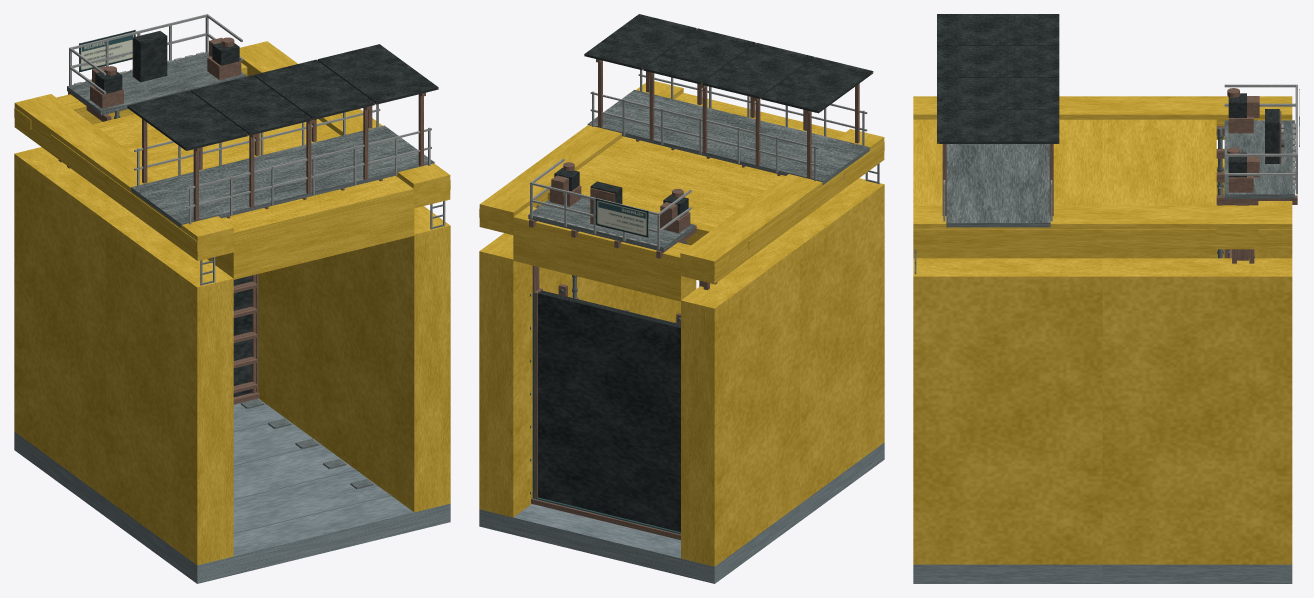
File: ProjectZ_Dam_Floodgate_Module.glb
The picture shows the model from 3 angles, left to right: view 1: azimuth 30°, elevation 25°; view 2: azimuth 150°, elevation 25°; view 3: azimuth 270°, elevation 25°; orthographic projection. The views are drawn at different scales.
Parts seen in each view (by area): view 1: Left_Pier_Cast_5m_Section_2, Right_Pier_Cast_5m_Section_2, Left_Pier_Cast_5m_Section_1, Invert_Foundation_8x5m_Section_2, Gallery_Nonslip_Deck_8m, Right_Pier_Cast_5m_Section_1, Left_Concrete_Pier_Parapet, Over_Spillway_Crosshead_Slotted_Section_3, Cast_Crest_Deck_Zone_4, Invert_Foundation_8x5m_Section_1, Removable_Gallery_Roof_Panel_1, Removable_Gallery_Roof_Panel_3 (+13 smaller); view 2: Left_Pier_Cast_5m_Section_1, Gate_Armored_Plate_Closed, Left_Pier_Cast_5m_Section_2, Right_Pier_Cast_5m_Section_1, Gallery_Nonslip_Deck_8m, Invert_Foundation_8x5m_Section_1, Left_Concrete_Pier_Parapet, Cast_Crest_Deck_Zone_2, Over_Spillway_Crosshead_Slotted_Section_1, Right_Concrete_Pier_Parapet, Cast_Crest_Deck_Zone_3, Removable_Gallery_Roof_Panel_1 (+15 smaller); view 3: Right_Pier_Cast_5m_Section_1, Right_Pier_Cast_5m_Section_2, Right_Concrete_Pier_Parapet, Cast_Crest_Deck_Zone_2, Gallery_Nonslip_Deck_8m, Left_Concrete_Pier_Parapet, Cast_Crest_Deck_Zone_3, Removable_Gallery_Roof_Panel_4, Removable_Gallery_Roof_Panel_1, Removable_Gallery_Roof_Panel_2, Removable_Gallery_Roof_Panel_3, Invert_Foundation_8x5m_Section_1 (+7 smaller).
Part boxes in pixels (box(x1,y1,x2,y2)): Left_Pier_Cast_5m_Section_2: box(105, 214, 233, 565); Right_Pier_Cast_5m_Section_2: box(322, 206, 450, 512); Left_Pier_Cast_5m_Section_1: box(14, 147, 132, 497); Invert_Foundation_8x5m_Section_2: box(105, 445, 450, 583); Gallery_Nonslip_Deck_8m: box(131, 125, 434, 227); Right_Pier_Cast_5m_Section_1: box(258, 258, 322, 444); Left_Concrete_Pier_Parapet: box(14, 94, 233, 260); Over_Spillway_Crosshead_Slotted_Section_3: box(207, 199, 414, 279); Cast_Crest_Deck_Zone_4: box(153, 175, 450, 251); Invert_Foundation_8x5m_Section_1: box(14, 398, 322, 516); Removable_Gallery_Roof_Panel_1: box(127, 90, 248, 150); Removable_Gallery_Roof_Panel_3: box(254, 59, 375, 119); Left_Pier_Cast_5m_Section_1: box(681, 240, 799, 566); Gate_Armored_Plate_Closed: box(538, 290, 680, 532); Left_Pier_Cast_5m_Section_2: box(775, 178, 884, 503); Right_Pier_Cast_5m_Section_1: box(479, 233, 597, 517); Gallery_Nonslip_Deck_8m: box(587, 90, 869, 184); Invert_Foundation_8x5m_Section_1: box(479, 504, 799, 583); Left_Concrete_Pier_Parapet: box(680, 129, 884, 283); Cast_Crest_Deck_Zone_2: box(547, 155, 799, 250); Over_Spillway_Crosshead_Slotted_Section_1: box(513, 226, 696, 301); Right_Concrete_Pier_Parapet: box(479, 81, 683, 235); Cast_Crest_Deck_Zone_3: box(599, 136, 843, 212); Removable_Gallery_Roof_Panel_1: box(761, 57, 873, 113); Right_Pier_Cast_5m_Section_1: box(1102, 258, 1292, 564); Right_Pier_Cast_5m_Section_2: box(913, 258, 1102, 564); Right_Concrete_Pier_Parapet: box(913, 205, 1292, 249); Cast_Crest_Deck_Zone_2: box(1102, 119, 1216, 239); Gallery_Nonslip_Deck_8m: box(946, 144, 1050, 227); Left_Concrete_Pier_Parapet: box(913, 96, 1292, 139); Cast_Crest_Deck_Zone_3: box(1004, 119, 1102, 239); Removable_Gallery_Roof_Panel_4: box(937, 110, 1059, 143); Removable_Gallery_Roof_Panel_1: box(937, 14, 1059, 45); Removable_Gallery_Roof_Panel_2: box(937, 46, 1059, 77); Removable_Gallery_Roof_Panel_3: box(937, 78, 1059, 109); Invert_Foundation_8x5m_Section_1: box(1102, 564, 1292, 583).
Bounding box in the file's own units: 8 × 12.87 × 10.19.
9 materials, 9 textured.
